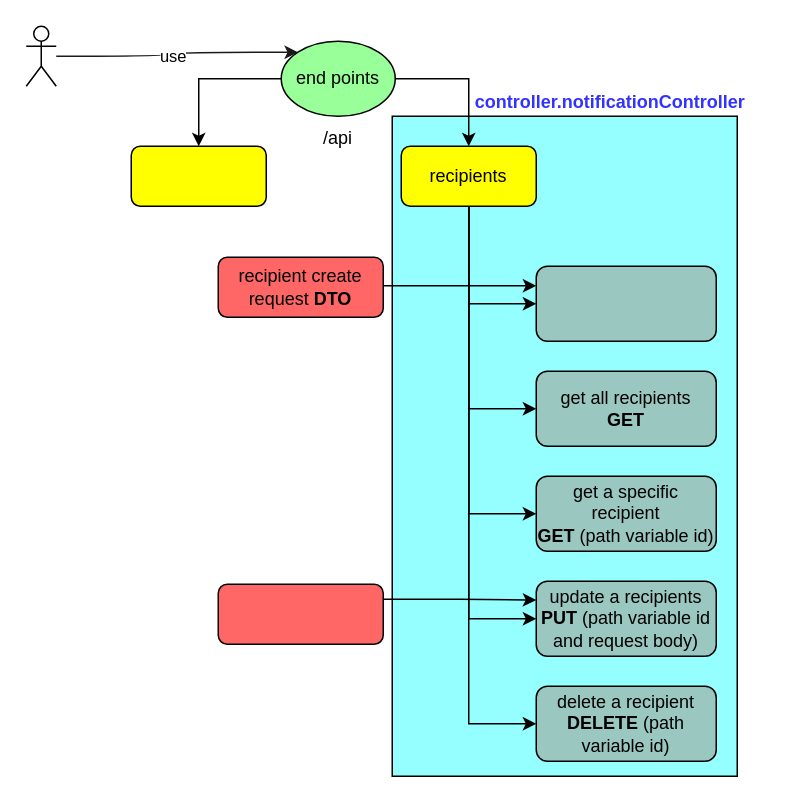
This 786x803 diagram has some shape labels left out. The box of each missing label's shape, as (x1, y1, x2, y2) in pixels:
create new recipient POST (request body): (535, 265, 716, 341)
Me: (25, 25, 56, 86)
notifications: (130, 145, 266, 206)
recipient update request DTO: (217, 583, 383, 644)
